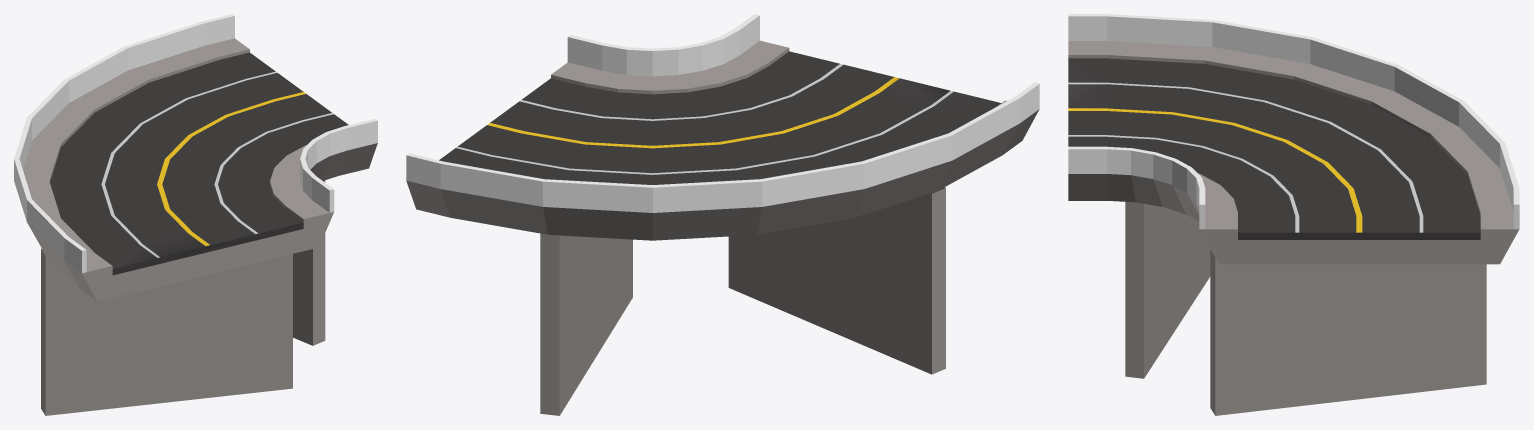
The model's file is Highway_turn.glb.
3 views of the same model, side by side, from view 1: azimuth 30°, elevation 25°; view 2: azimuth 150°, elevation 25°; view 3: azimuth 270°, elevation 25° (orthographic). The views are drawn at different scales.
Visible parts, largest first — view 1: huitugou_2159_1378; view 2: huitugou_2159_1378; view 3: huitugou_2159_1378.
Part boxes in pixels (left/top/right/bottom): huitugou_2159_1378: left=14, top=14, right=377, bottom=415; huitugou_2159_1378: left=406, top=14, right=1039, bottom=415; huitugou_2159_1378: left=1068, top=14, right=1519, bottom=415.
Size of the model in its own units: 11.63 by 6.7 by 11.63.
1 material, 1 textured.
